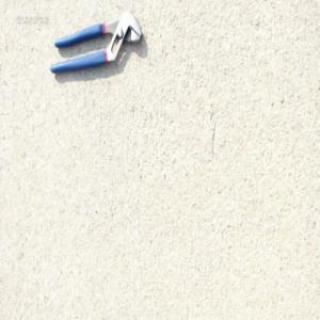Pliertrack_idkeyframe: (49, 9, 142, 74)
